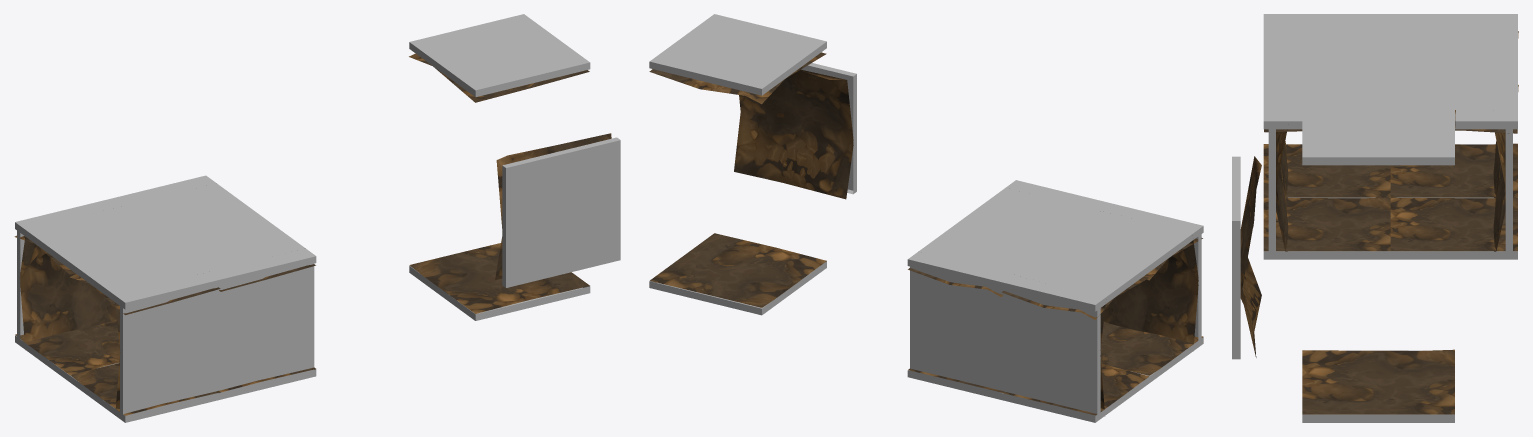
The model's file is BasicHallway.glb.
3 views of the same model, side by side, from view 1: azimuth 30°, elevation 25°; view 2: azimuth 150°, elevation 25°; view 3: azimuth 270°, elevation 25° (orthographic). The views are drawn at different scales.
Visible parts, largest first — view 1: Wall tiled, Roof -Tiled, Wall-Part.001, Roof-Part, Floor - Tiled, Floor - Part; view 2: Wall tiled, Roof -Tiled, Wall-Part.001, Roof-Part, Floor - Part, Floor - Tiled; view 3: Roof -Tiled, Floor - Tiled, Roof-Part, Floor - Part, Wall tiled, Wall-Part.001.
Boxes of the visible parts, box(x1,y1,x2,y2) form: Wall tiled: box(17, 224, 314, 420); Roof -Tiled: box(14, 175, 316, 315); Wall-Part.001: box(495, 133, 620, 287); Roof-Part: box(409, 14, 590, 102); Floor - Tiled: box(15, 319, 316, 422); Floor - Part: box(409, 243, 590, 320); Wall tiled: box(910, 234, 1201, 421); Roof -Tiled: box(907, 180, 1203, 319); Wall-Part.001: box(734, 63, 856, 199); Roof-Part: box(649, 14, 826, 104); Floor - Part: box(649, 233, 826, 315); Floor - Tiled: box(907, 321, 1203, 422); Roof -Tiled: box(1263, 14, 1518, 133); Floor - Tiled: box(1263, 143, 1517, 259); Roof-Part: box(1302, 93, 1455, 169); Floor - Part: box(1302, 349, 1454, 422); Wall tiled: box(1268, 121, 1512, 259); Wall-Part.001: box(1232, 156, 1261, 359).
Bounding box in the file's own units: 42.04 × 19.28 × 18.81.
Materials: 1 (1 with a texture image).
